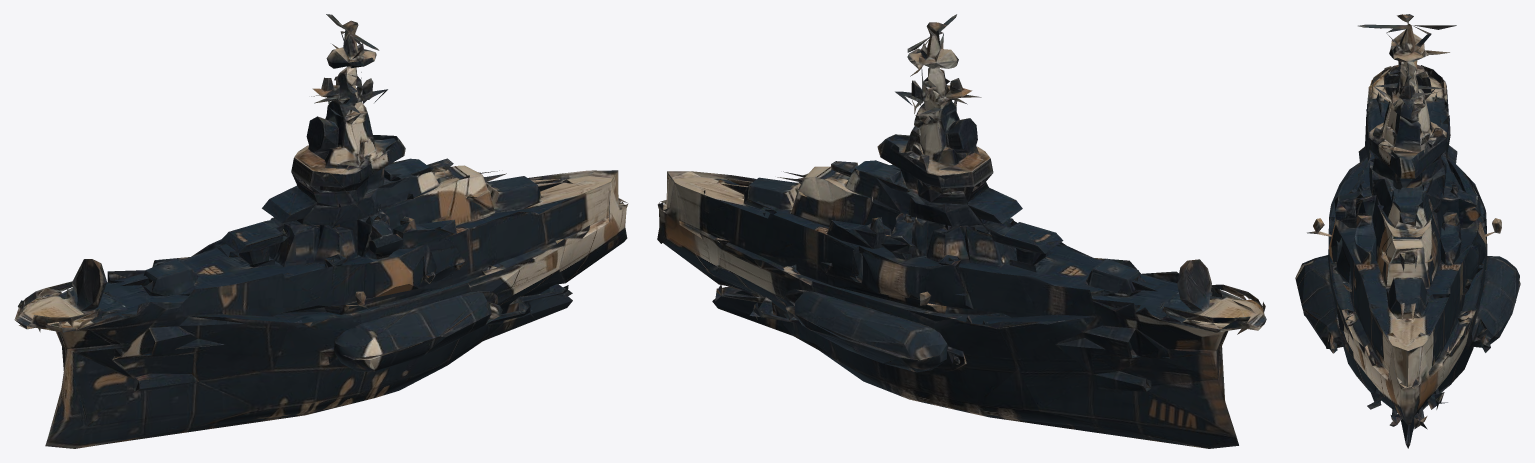
File: nation-w-cruiser.glb
3 views of the same model, side by side, from view 1: azimuth 30°, elevation 25°; view 2: azimuth 150°, elevation 25°; view 3: azimuth 270°, elevation 25° (orthographic). The views are drawn at different scales.
Size of the model in its own units: 1.9 by 1.08 by 0.6237.
1 material, 1 textured.
